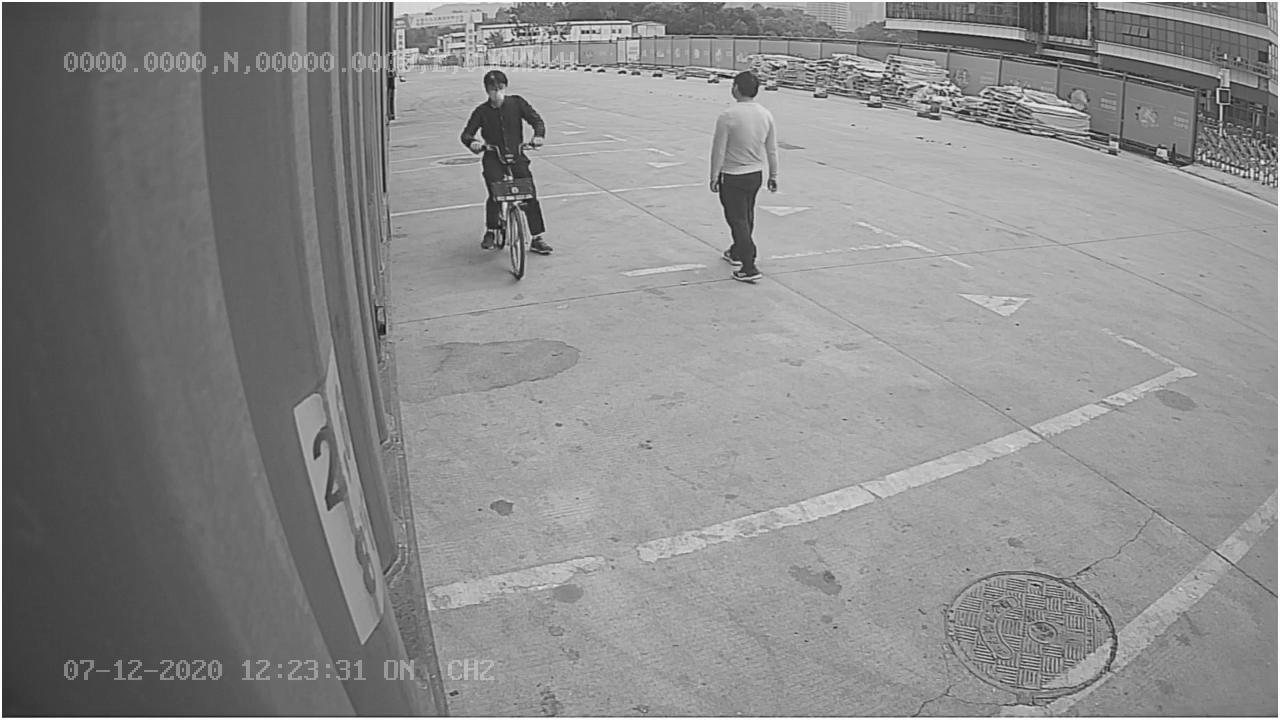person: (699, 65, 786, 289)
